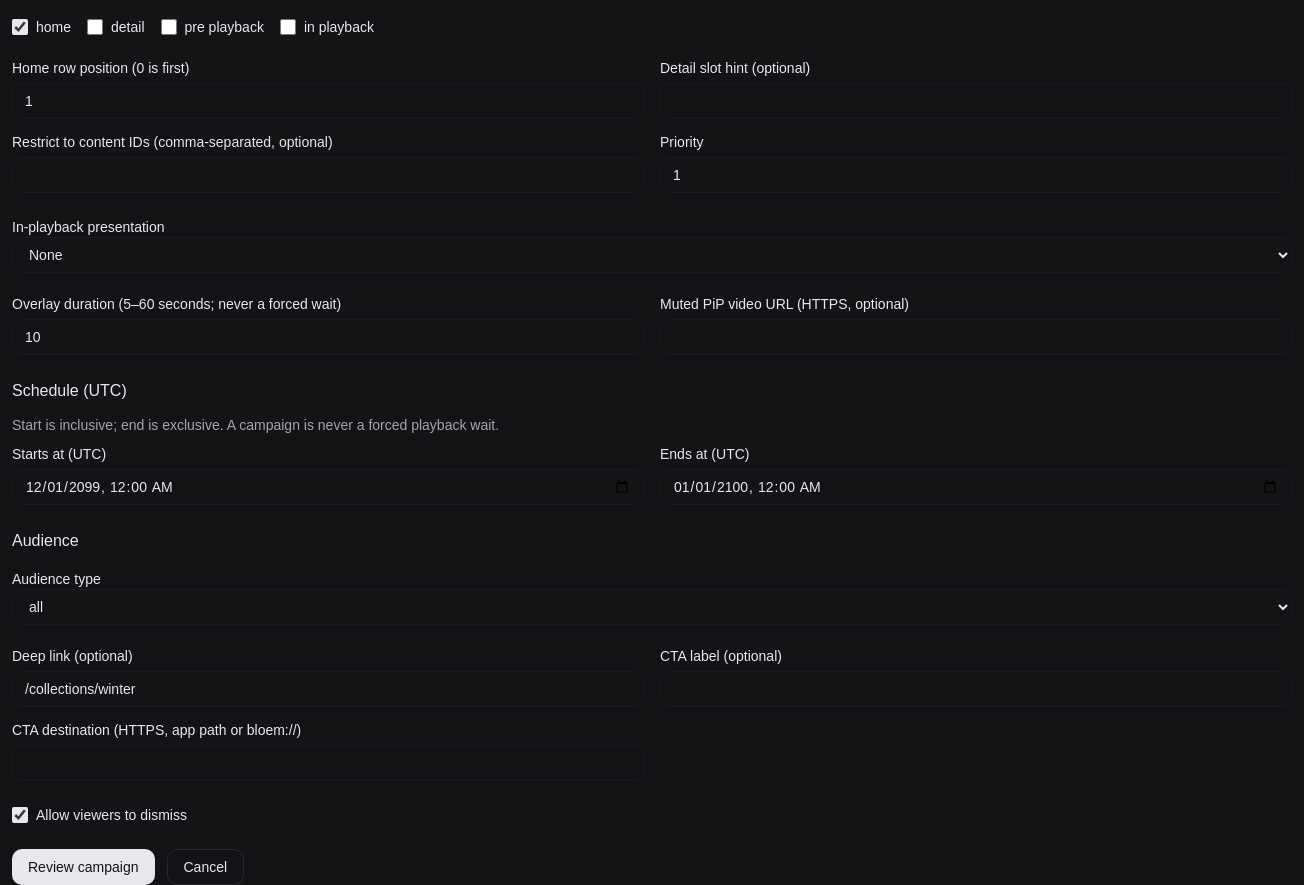
typed campaign authoring › rejects unsafe artwork before offering publication
(page scrolled)
Click the button "Review campaign" at {"x": 83, "y": 867}, box left=12, top=849, right=154, bottom=884
(page scrolled)
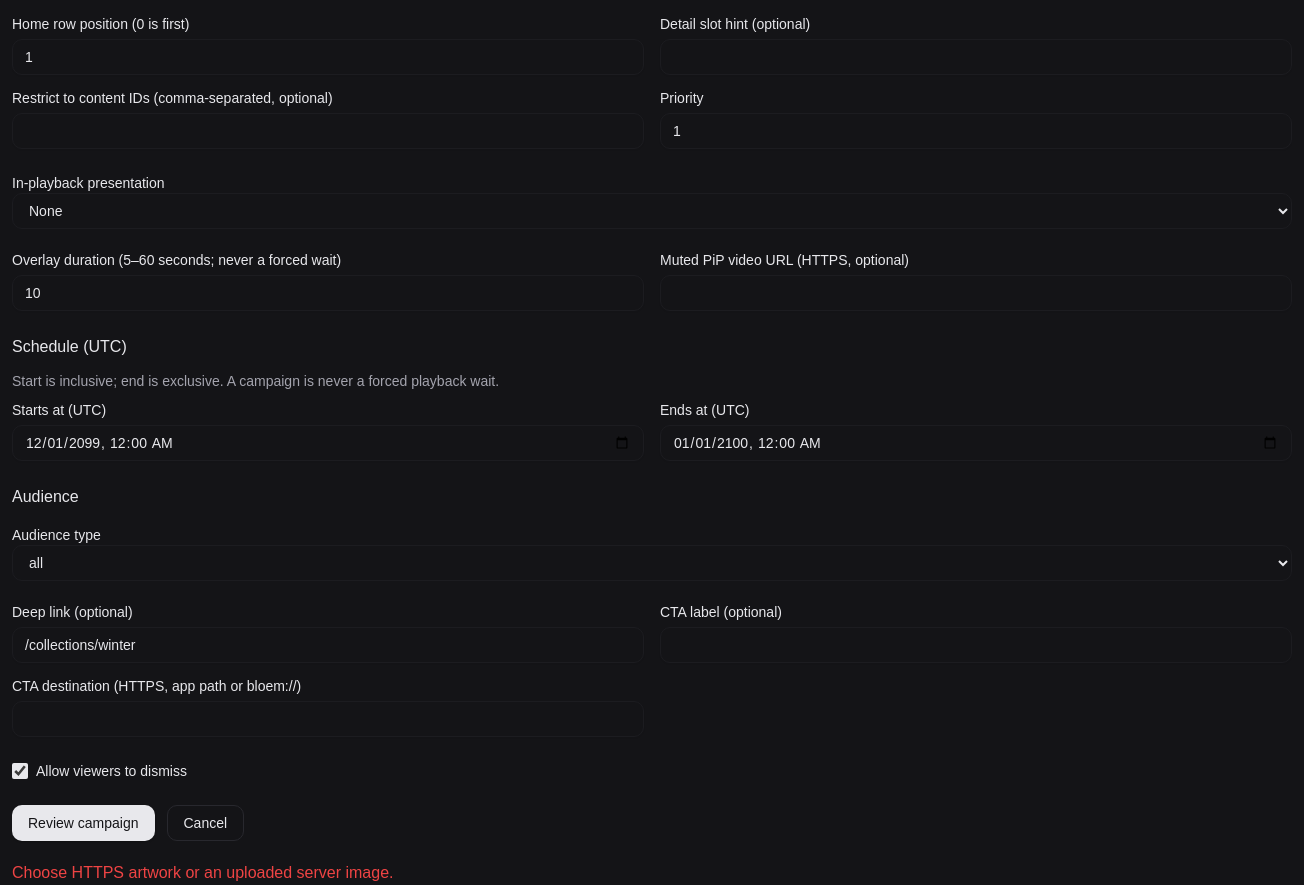
Result: the message shows "HTTPS artwork" at left=12, top=864, right=394, bottom=881
